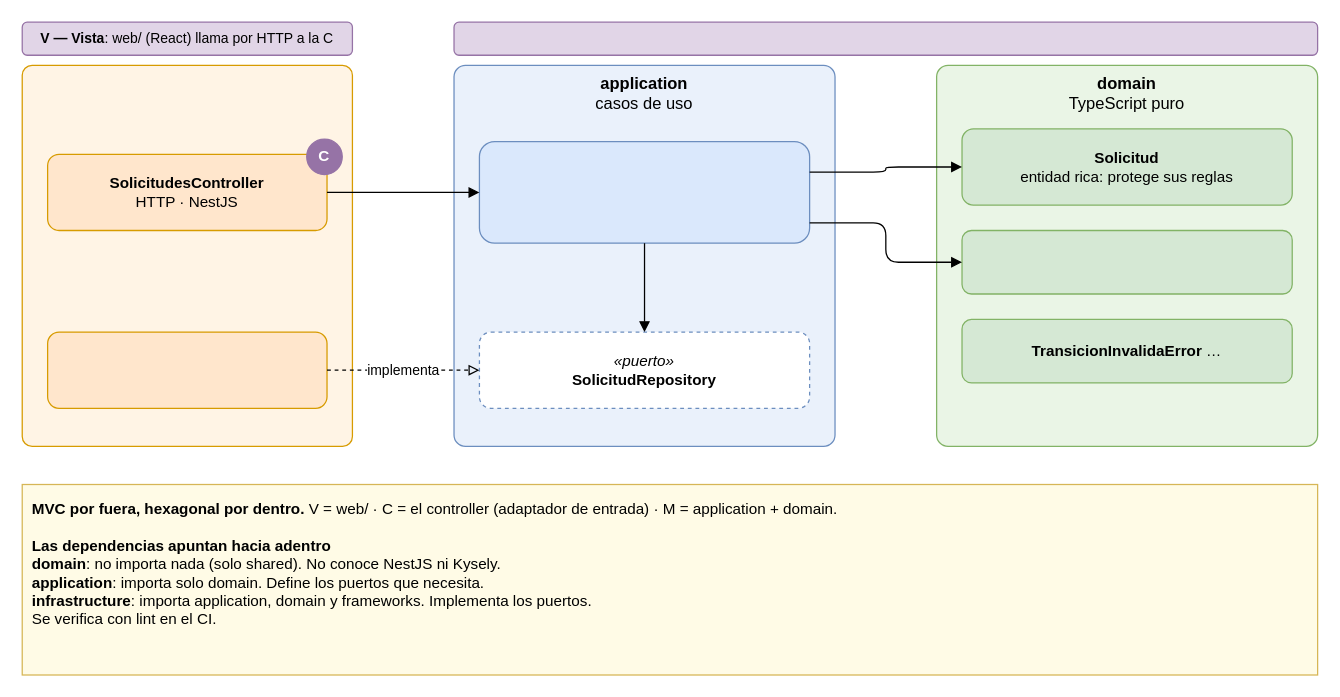
Image size: 1340x697. Some labels were removed from this diagram. Here are the shapes that lost their labels. From the top down, the box of each, then its label:
(453, 21, 1318, 55): M — Modelo : application + domain (y los puertos)
(478, 140, 810, 243): Casos de uso CrearSolicitud · EnviarSolicitud · AprobarSolicitud …
(21, 64, 352, 446): infrastructure adaptadores
(961, 229, 1292, 294): PoliticaSeparacionFunciones
(46, 331, 327, 408): PgSolicitudRepository Kysely · PostgreSQL
